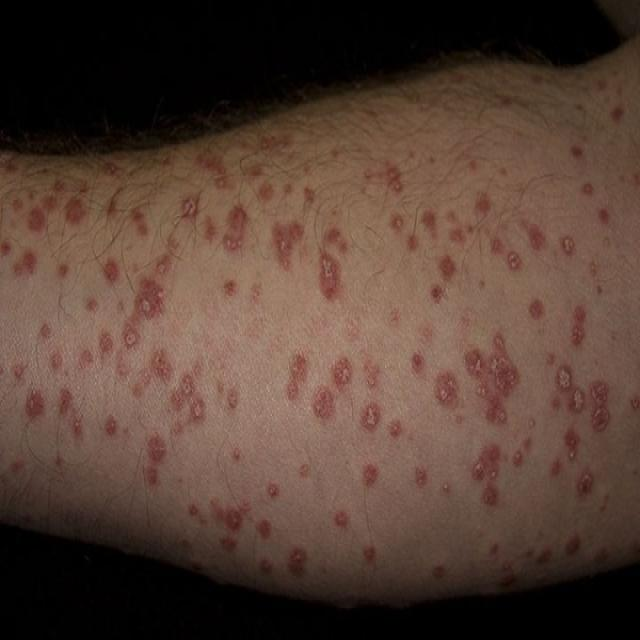Psoriasis Guttata: (0, 38, 639, 600)
